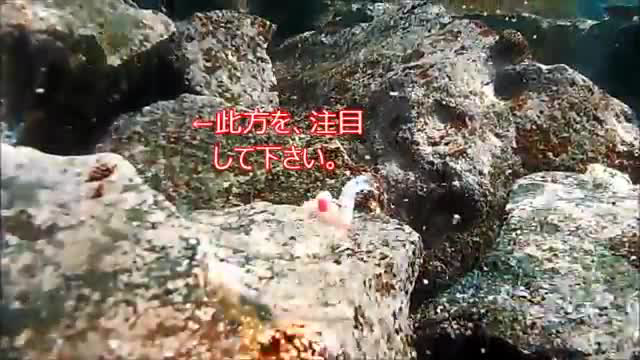mebaru: (18, 47, 113, 153)
